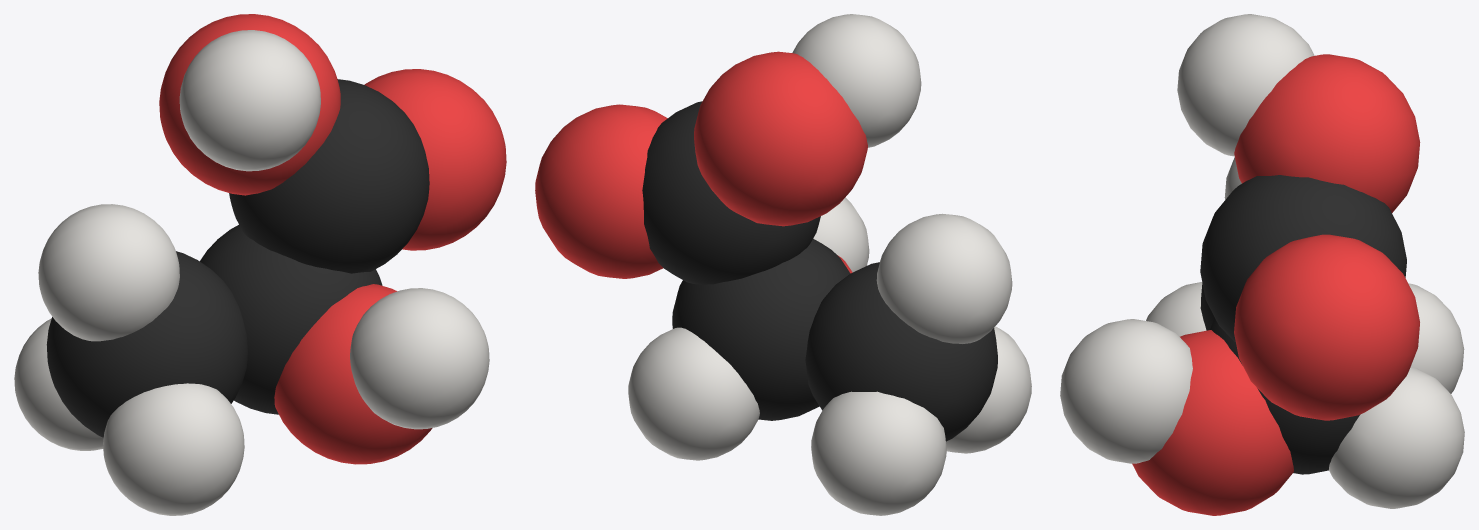
3 renders of one model, left to right at view 1: azimuth 30°, elevation 25°; view 2: azimuth 150°, elevation 25°; view 3: azimuth 270°, elevation 25°, orthographic. The views are drawn at different scales.
Visible parts, largest first — view 1: C3H6O3; view 2: C3H6O3; view 3: C3H6O3.
Part boxes in pixels (box(x1,y1,x2,y2)): C3H6O3: box(14, 14, 506, 515); C3H6O3: box(535, 14, 1031, 515); C3H6O3: box(1060, 14, 1464, 515).
Bounding box in the file's own units: 5.26 × 4.74 × 3.91.
